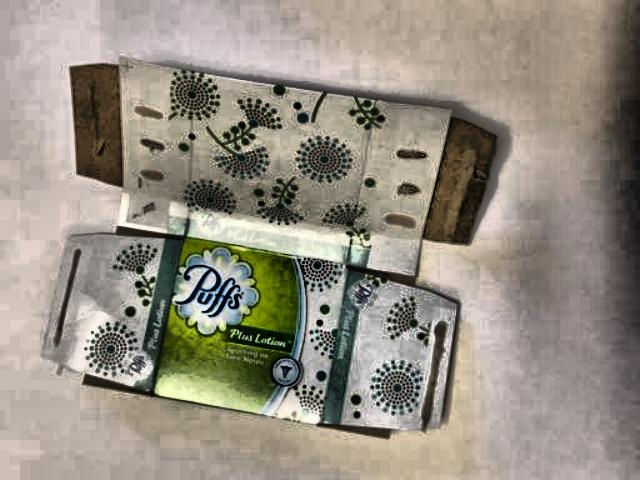Paper: (46, 48, 494, 457)
